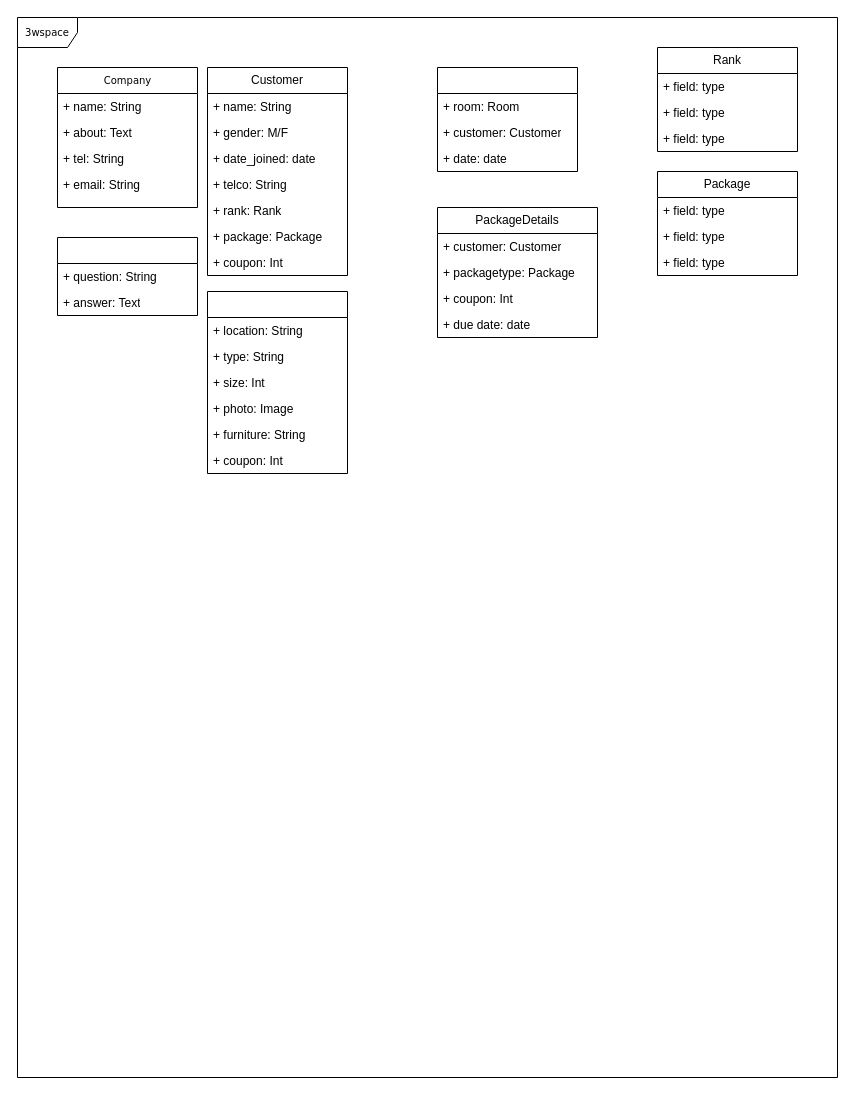
This 855x1095 diagram has some shape labels left out. The shapes that lost their labels are listed below. From the top down, each one's box as (x1, y1, x2, y2) in pixels, then its label:
(436, 66, 578, 172): Booking
(56, 236, 198, 316): FAQ
(206, 290, 348, 474): Room
